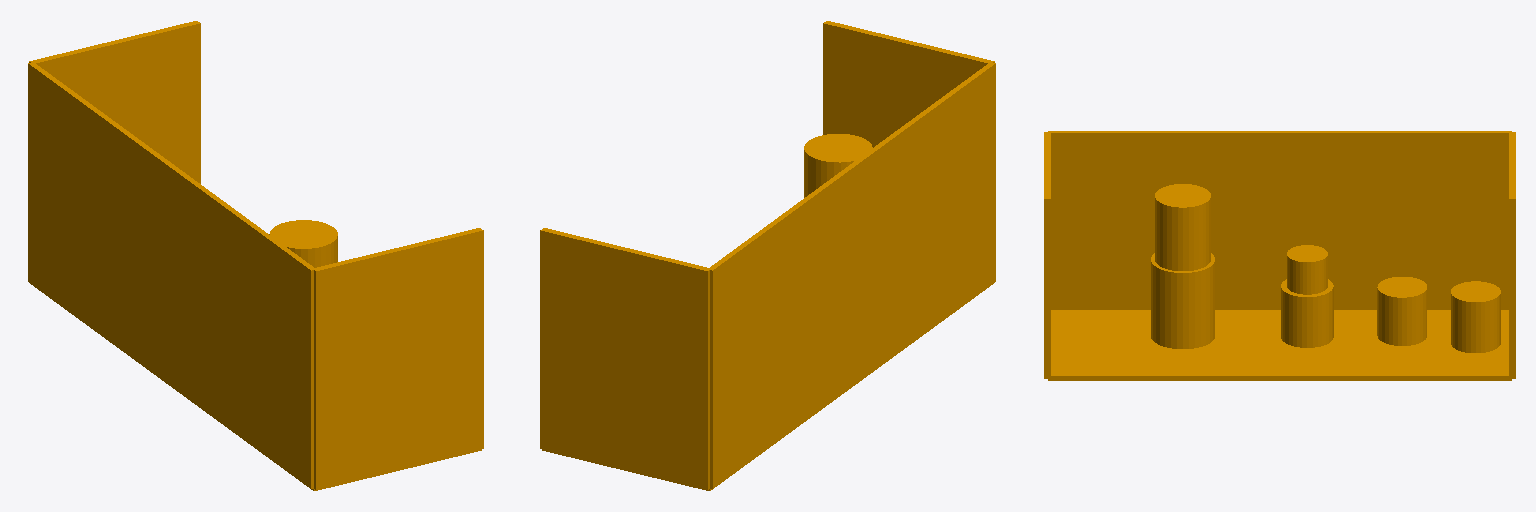
URDF robot description (syn_can_cabinet_2470):
<?xml version="1.0" ?>
<robot name="syn_can_cabinet_2470">
    <link concave="yes" name="base_link">
        <inertial>
            <origin rpy="0 0 0" xyz="0 0 0"/>
            <mass value="0.0"/>
            <inertia ixx="1e-08" ixy="0" ixz="0" iyy="1e-08" iyz="0" izz="1e-08"/>
        </inertial>
        <visual>
            <origin xyz="0 0 0" rpy="0 0 0" />
            <geometry>
                <mesh filename="syn_can_cabinet_2470.obj" scale="1.000000 1.000000 1.000000"/>
            </geometry>         
        </visual>

        <collision concave="yes">
            <origin xyz="0 0 0" rpy="0 0 0"/>
            <geometry>
                <mesh filename="syn_can_cabinet_2470.obj" scale="1.000000 1.000000 1.000000"/>
            </geometry>
        </collision>
    </link>
</robot>
    

--- Facts derived from the render (not from the file) ---
3 views of the same robot in one strip: view 1: azimuth 30°, elevation 25°; view 2: azimuth 150°, elevation 25°; view 3: azimuth 270°, elevation 25° (orthographic).
Model syn_can_cabinet_2470 with 1 links and 0 joints (none), rooted at base_link, posed every joint at zero.
Links seen in each view (by area): view 1: base_link; view 2: base_link; view 3: base_link.
Boxes of the visible links, box(x1,y1,x2,y2) form: base_link: box(28, 21, 483, 490); base_link: box(540, 21, 995, 490); base_link: box(1044, 131, 1515, 380).
Size in the robot's own frame: 0.1529 by 0.4457 by 0.1899 metres.
1 mesh visuals loaded from 1 distinct referenced files (1 OBJ).
